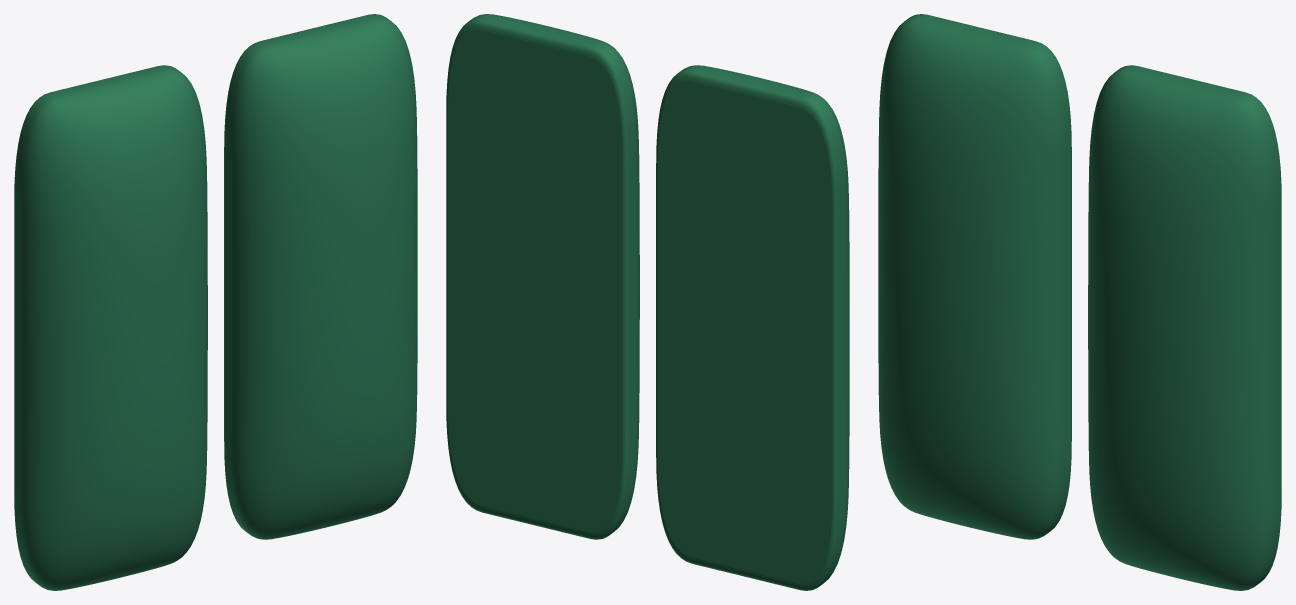
File: matched-pair-v1.glb
3 views of the same model, side by side, from view 1: azimuth 30°, elevation 25°; view 2: azimuth 150°, elevation 25°; view 3: azimuth 330°, elevation 25° (orthographic).
Parts seen in each view (by area): view 1: Rounded-Rectangle Cabochon 26x10x4mm, Rounded-Rectangle Cabochon 26x10x4mm.001; view 2: Rounded-Rectangle Cabochon 26x10x4mm.001, Rounded-Rectangle Cabochon 26x10x4mm; view 3: Rounded-Rectangle Cabochon 26x10x4mm.001, Rounded-Rectangle Cabochon 26x10x4mm.
Part boxes in pixels (x1,y1,x2,y2): Rounded-Rectangle Cabochon 26x10x4mm: (14, 65, 207, 590); Rounded-Rectangle Cabochon 26x10x4mm.001: (224, 14, 417, 539); Rounded-Rectangle Cabochon 26x10x4mm.001: (446, 14, 639, 539); Rounded-Rectangle Cabochon 26x10x4mm: (656, 65, 849, 590); Rounded-Rectangle Cabochon 26x10x4mm.001: (1088, 65, 1281, 590); Rounded-Rectangle Cabochon 26x10x4mm: (878, 14, 1071, 539).
Size of the model in its own units: 0.0216 by 0.026 by 0.00398.
